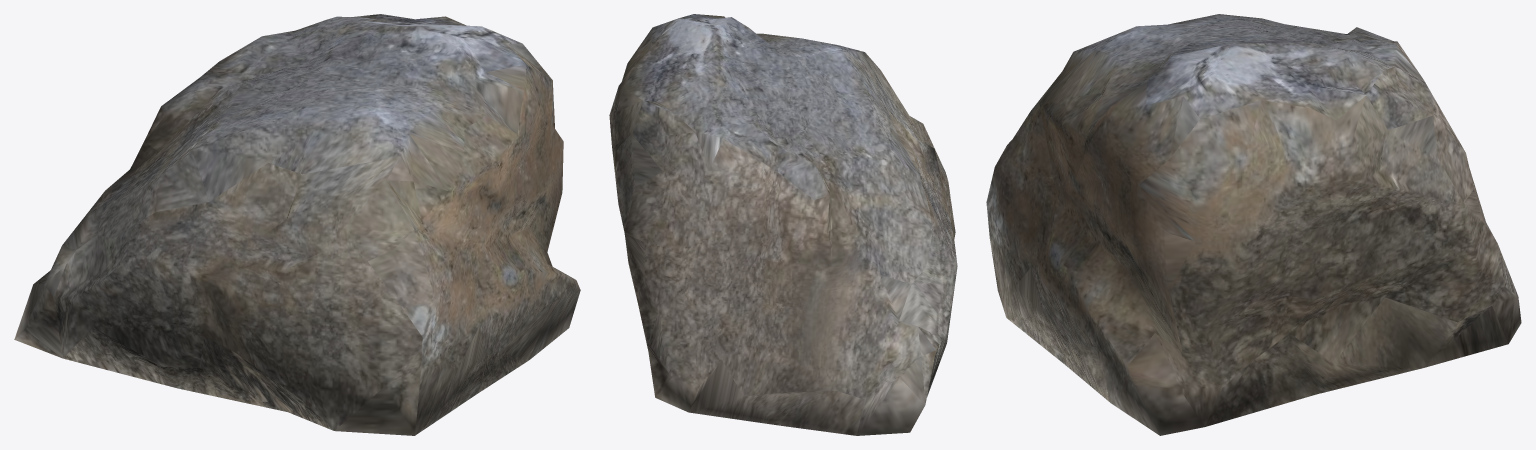
The model's file is boulder_c_lod2.glb.
The picture shows the model from 3 angles, left to right: view 1: azimuth 30°, elevation 25°; view 2: azimuth 150°, elevation 25°; view 3: azimuth 270°, elevation 25°; orthographic projection. The views are drawn at different scales.
Parts seen in each view (by area): view 1: boulder_c_lod2; view 2: boulder_c_lod2; view 3: boulder_c_lod2.
Part boxes in pixels (x1,y1,x2,y2): boulder_c_lod2: [14, 14, 580, 435]; boulder_c_lod2: [609, 14, 957, 435]; boulder_c_lod2: [986, 14, 1521, 435].
Bounding box in the file's own units: 2.99 × 2.03 × 2.95.
1 material, 1 textured.
